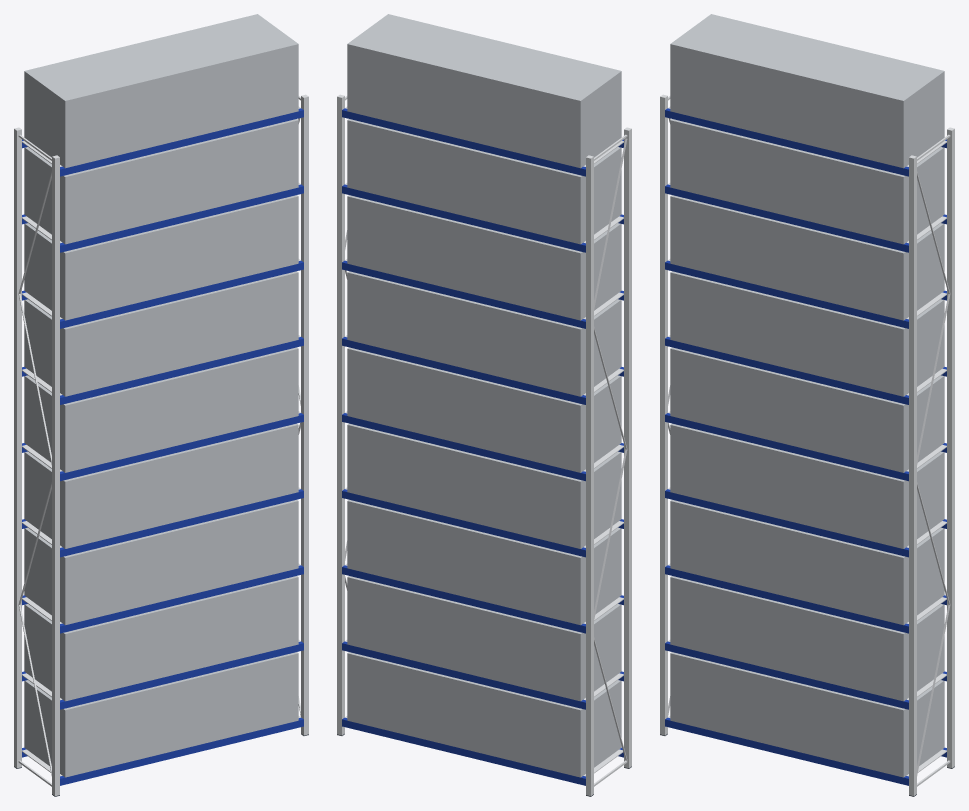
File: SM_MPR_CADRack_F9_W144_Standard_LOD2.fbx
The picture shows the model from 3 angles, left to right: view 1: azimuth 30°, elevation 25°; view 2: azimuth 150°, elevation 25°; view 3: azimuth 330°, elevation 25°; orthographic projection.
Visible parts, largest first — view 1: SM_MPR_CADRack_F9_W144_Standard_LOD2; view 2: SM_MPR_CADRack_F9_W144_Standard_LOD2; view 3: SM_MPR_CADRack_F9_W144_Standard_LOD2.
Part boxes in pixels (box(x1,y1,x2,y2)): SM_MPR_CADRack_F9_W144_Standard_LOD2: box(14, 14, 308, 796); SM_MPR_CADRack_F9_W144_Standard_LOD2: box(337, 14, 631, 796); SM_MPR_CADRack_F9_W144_Standard_LOD2: box(660, 14, 954, 796).
Bounding box in the file's own units: 381 × 107 × 994.
